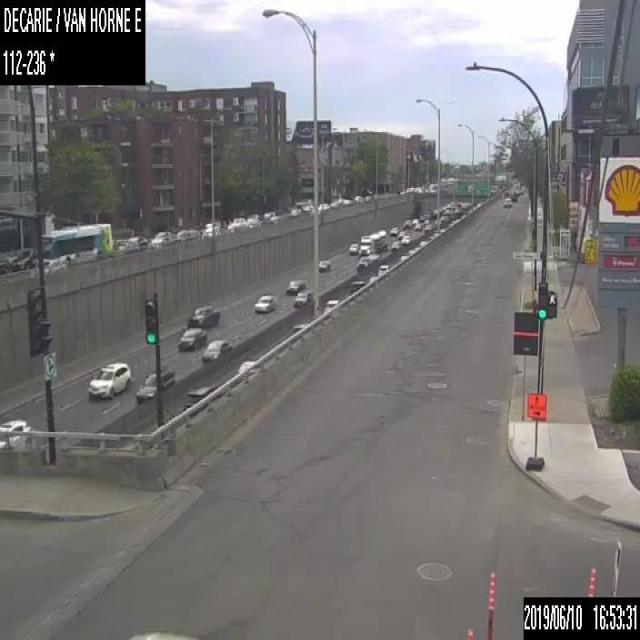bus: (39, 222, 111, 262)
construction: (526, 391, 546, 468), (486, 569, 494, 639), (586, 564, 596, 596), (464, 626, 474, 638)
vehicle: (84, 358, 131, 398), (135, 370, 174, 398), (0, 417, 33, 447), (125, 628, 197, 639), (185, 383, 215, 409), (358, 228, 386, 253), (202, 338, 231, 362), (187, 304, 218, 326), (177, 327, 206, 349), (237, 358, 260, 381), (12, 248, 36, 270), (253, 294, 275, 314), (291, 287, 312, 306), (148, 233, 174, 247), (286, 277, 304, 294), (355, 255, 369, 270), (202, 223, 218, 236), (324, 298, 338, 312), (293, 321, 308, 334), (317, 257, 330, 271), (377, 263, 390, 277), (230, 216, 245, 228), (350, 280, 364, 292), (246, 217, 260, 228), (0, 262, 12, 274), (261, 212, 275, 222), (348, 242, 358, 255), (317, 202, 328, 212), (390, 240, 400, 250), (400, 234, 410, 244), (389, 226, 399, 234), (502, 198, 512, 205), (509, 190, 516, 200), (414, 222, 422, 230), (398, 230, 405, 238), (424, 223, 431, 230), (412, 217, 418, 224), (423, 218, 429, 225)
